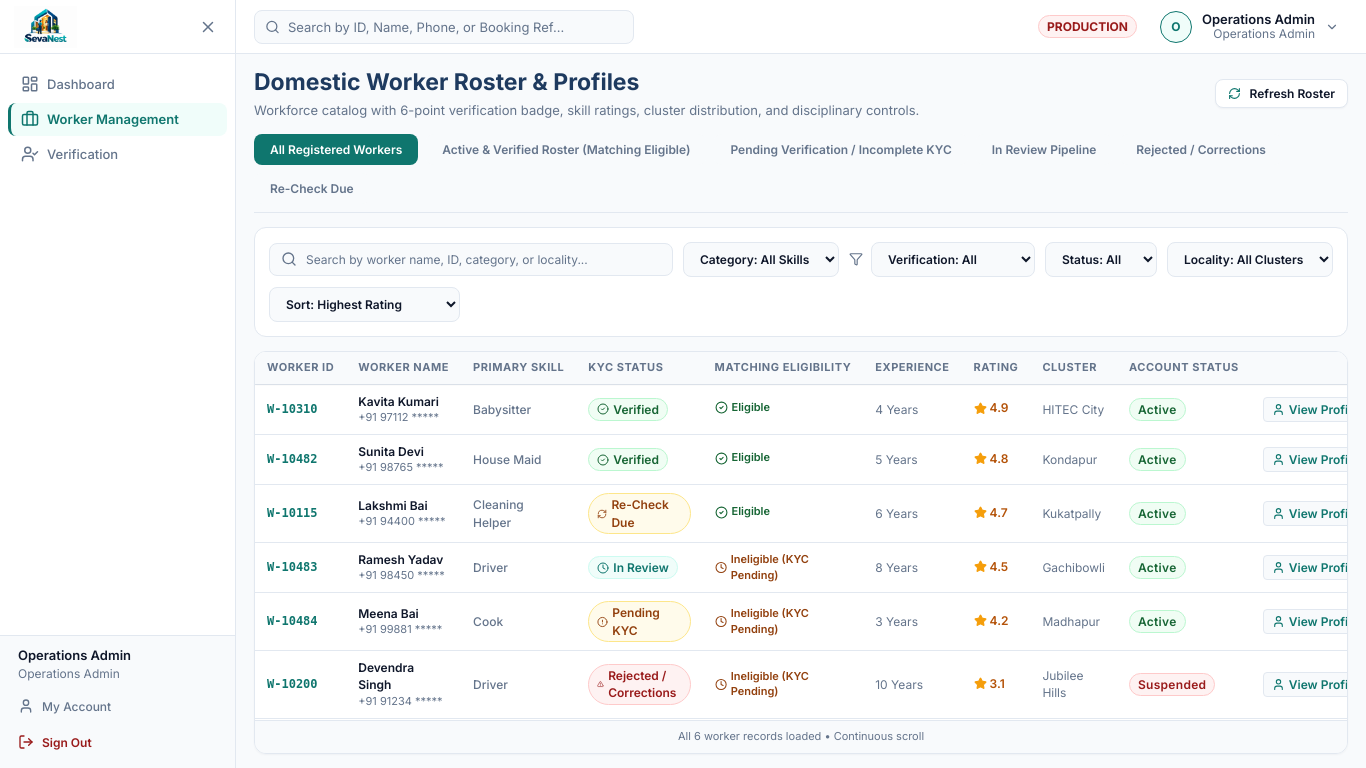
Test: Worker Directory — Consistent Worker Profile Navigation & Interaction › clicking a worker row opens the worker profile view (WorkerDetailModal)
The image size is (1366, 768).
Expected: the text "Sunita Devi" is shown, [358, 444, 424, 459]
# Click anywhere on the table row
Click the button with aria-label "View profile for Sunita Devi (W-10482)" at point(810, 460), box [255, 434, 1365, 485]
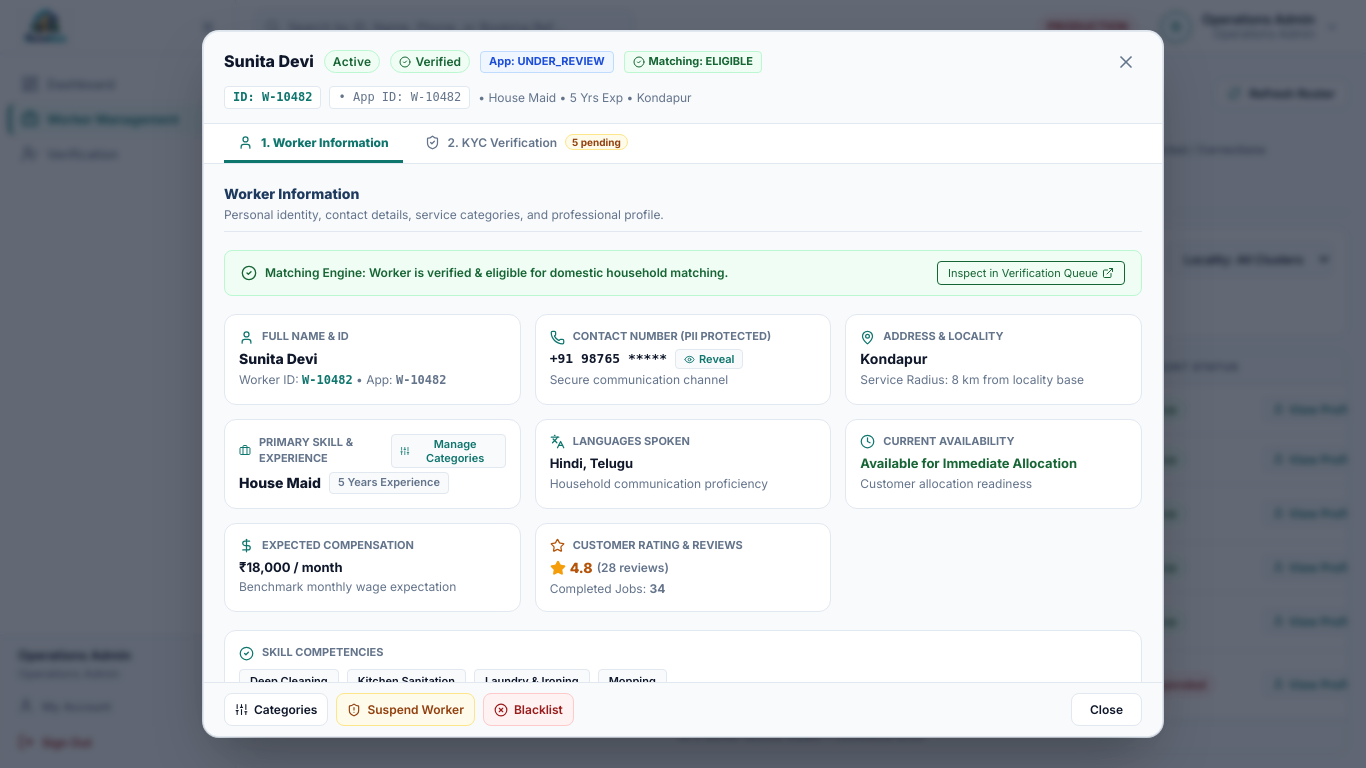
Now the heading "Sunita Devi" is shown, box [224, 51, 314, 72]
Now the text "ID: W-10482" is shown, box [224, 86, 322, 109]
Now the text "• House Maid • 5 Yrs Exp • Kondapur" is shown, box [478, 89, 692, 106]
